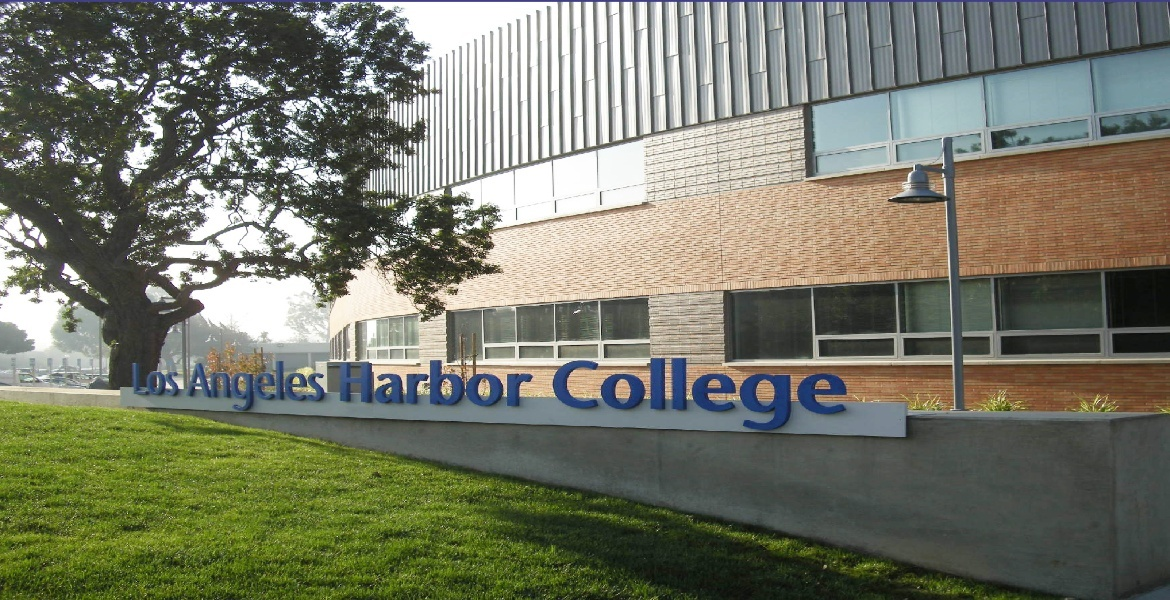text: (561, 357, 576, 431), (577, 357, 592, 431), (593, 357, 608, 431), (609, 357, 624, 431), (625, 357, 640, 431), (641, 357, 656, 431), (657, 357, 672, 431), (673, 357, 688, 431), (689, 357, 704, 431), (705, 357, 720, 431), (721, 357, 736, 431), (737, 357, 752, 431), (753, 357, 768, 431), (769, 357, 784, 431), (785, 357, 800, 431), (801, 357, 816, 431), (817, 357, 832, 431), (833, 357, 848, 431), (209, 362, 224, 417), (225, 362, 240, 417), (241, 362, 256, 417), (257, 362, 272, 417), (273, 362, 288, 417), (289, 362, 304, 417), (305, 362, 320, 417), (194, 362, 208, 417), (353, 359, 368, 409), (369, 359, 384, 409), (385, 359, 400, 409), (401, 359, 416, 409), (417, 359, 432, 409), (433, 359, 448, 409), (449, 359, 464, 409), (465, 359, 480, 409), (481, 359, 496, 409), (497, 359, 512, 409), (513, 359, 528, 409), (338, 359, 352, 409), (551, 357, 560, 431), (145, 362, 160, 397), (161, 362, 176, 397), (131, 362, 144, 397), (529, 359, 536, 409), (321, 362, 326, 417), (177, 362, 179, 397)
